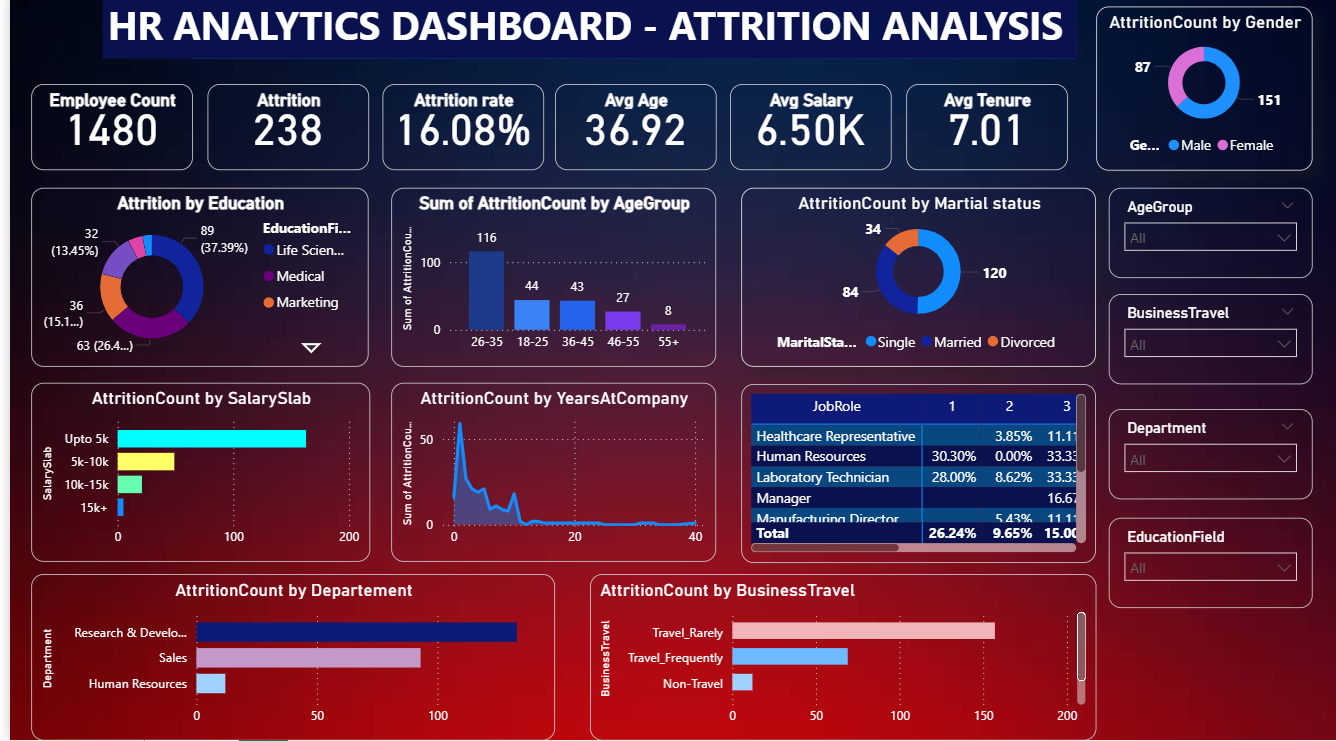

The page's visual inventory and layout, read from the dashboard file:
{"tool":"powerbi","page":{"name":"Page 1","canvas":[1280,720],"ordinal":0},"visuals":[{"type":"shape","box":[176.1,0,853,62.7],"z":0},{"type":"textbox","box":[89.3,0,939.8,62.7],"z":1000},{"type":"card","title":"Emp Count","fields":{"Values":["CountNonNull(HR_Analytics.EmpID)"]},"box":[20.5,86.9,155.6,83.2],"z":2000},{"type":"card","title":"Attrition","fields":{"Values":["Sum(HR_Analytics.AttritionCount)"]},"box":[190.6,86.9,155.6,83.2],"z":3000},{"type":"card","title":"Attrition rate","fields":{"Values":["HR_Analytics.AttritionRate"]},"box":[359.5,86.9,155.6,83.2],"z":4000},{"type":"card","title":"Avg Age","fields":{"Values":["Avg(HR_Analytics.Age)"]},"box":[526,86.9,155.6,83.2],"z":5000},{"type":"card","title":"Avg Salary","fields":{"Values":["Avg(HR_Analytics.MonthlyIncome)"]},"box":[694.9,86.9,155.6,83.2],"z":6000},{"type":"card","title":"Avg Tenure","fields":{"Values":["Avg(HR_Analytics.YearsAtCompany)"]},"box":[865,86.9,155.6,83.2],"z":7000},{"type":"donutChart","title":"AttritionCount by Gender","fields":{"Category":["HR_Analytics.Gender"],"Y":["Sum(HR_Analytics.AttritionCount)"]},"box":[1048.4,12.1,208.7,158],"z":8000},{"type":"donutChart","title":"Attrition by Education","fields":{"Category":["HR_Analytics.EducationField","HR_Analytics.YearsAtCompany"],"Y":["Sum(HR_Analytics.AttritionCount)"]},"box":[20.5,187,325.7,172.5],"z":9000},{"type":"columnChart","fields":{"Category":["HR_Analytics.AgeGroup"],"Y":["Sum(HR_Analytics.AttritionCount)"]},"box":[368,187,313.7,172.5],"z":10000},{"type":"pivotTable","fields":{"Rows":["HR_Analytics.JobRole"],"Columns":["HR_Analytics.JobLevel"],"Values":["HR_Analytics.AttritionRate"]},"box":[705.8,376.4,342.6,172.5],"z":11000},{"type":"barChart","title":"AttritionCount by SalarySlab","fields":{"Category":["HR_Analytics.SalarySlab"],"Y":["Sum(HR_Analytics.AttritionCount)"]},"box":[20.5,375.2,326.9,172.5],"z":12000},{"type":"areaChart","title":"AttritionCount by YearsAtCompany","fields":{"Category":["HR_Analytics.YearsAtCompany"],"Y":["Sum(HR_Analytics.AttritionCount)"]},"box":[368,375.2,313.7,172.5],"z":13000},{"type":"barChart","title":"AttritionCount by Departement","fields":{"Category":["HR_Analytics.Department"],"Y":["Sum(HR_Analytics.AttritionCount)"]},"box":[20.5,559.8,505.5,160.5],"z":14000},{"type":"donutChart","title":"AttritionCount by Martial status","fields":{"Category":["HR_Analytics.MaritalStatus"],"Y":["Sum(HR_Analytics.AttritionCount)"]},"box":[705.8,187,342.6,172.5],"z":15000},{"type":"barChart","title":"AttritionCount by BusinessTravel","fields":{"Category":["HR_Analytics.BusinessTravel"],"Y":["Sum(HR_Analytics.AttritionCount)"]},"box":[559.8,559.8,488.6,160.5],"z":16000},{"type":"slicer","fields":{"Values":["HR_Analytics.AgeGroup"]},"box":[1059.3,208.7,196.6,86.9],"z":17000},{"type":"slicer","fields":{"Values":["HR_Analytics.BusinessTravel"]},"box":[1060.5,336.6,196.6,80.8],"z":18000},{"type":"slicer","fields":{"Values":["HR_Analytics.Department"]},"box":[1059.3,460.9,196.6,86.9],"z":19000},{"type":"slicer","fields":{"Values":["HR_Analytics.EducationField"]},"box":[1058,586.3,196.6,86.9],"z":20000},{"type":"image","box":[20.5,0,63.9,72.4],"z":21000}]}

Visuals, with their boxes in screenshot pixels (x1, y1, x2, y2), scaled from the page's 1280x720 canvas onto the 1336x741 screenshot:
shape: (184, 0, 1074, 65)
textbox: (93, 0, 1074, 65)
"Emp Count" card: (21, 89, 184, 175)
"Attrition" card: (199, 89, 361, 175)
"Attrition rate" card: (375, 89, 538, 175)
"Avg Age" card: (549, 89, 711, 175)
"Avg Salary" card: (725, 89, 888, 175)
"Avg Tenure" card: (903, 89, 1065, 175)
"AttritionCount by Gender" donutChart: (1094, 12, 1312, 175)
"Attrition by Education" donutChart: (21, 192, 361, 370)
columnChart - HR_Analytics.AgeGroup x Sum(HR_Analytics.AttritionCount): (384, 192, 712, 370)
pivotTable - HR_Analytics.JobRole x HR_Analytics.JobLevel: (737, 387, 1094, 565)
"AttritionCount by SalarySlab" barChart: (21, 386, 363, 564)
"AttritionCount by YearsAtCompany" areaChart: (384, 386, 712, 564)
"AttritionCount by Departement" barChart: (21, 576, 549, 740)
"AttritionCount by Martial status" donutChart: (737, 192, 1094, 370)
"AttritionCount by BusinessTravel" barChart: (584, 576, 1094, 740)
slicer - HR_Analytics.AgeGroup: (1106, 215, 1311, 304)
slicer - HR_Analytics.BusinessTravel: (1107, 346, 1312, 430)
slicer - HR_Analytics.Department: (1106, 474, 1311, 564)
slicer - HR_Analytics.EducationField: (1104, 603, 1309, 693)
image: (21, 0, 88, 75)
